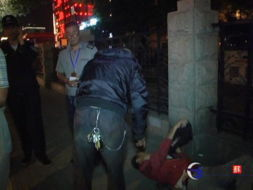fall: (129, 112, 251, 190)
